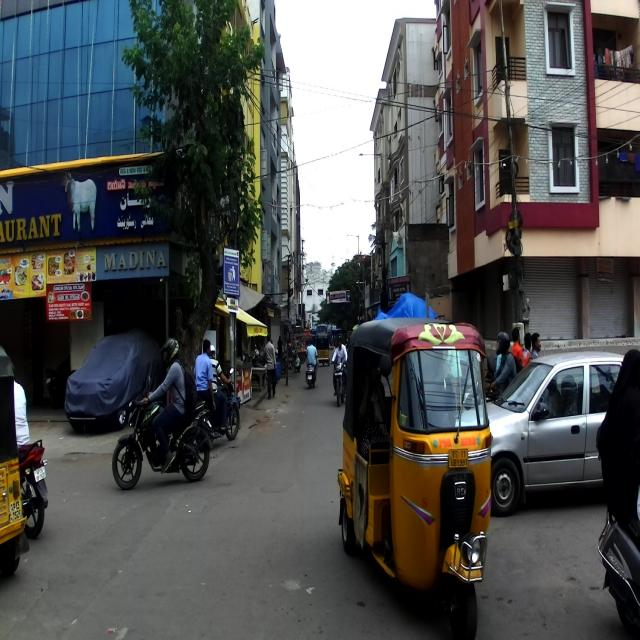Car: (64, 326, 160, 432)
Car_Maruti-Suzuki: (484, 351, 628, 518)
autorickshaw: (336, 317, 496, 639)
motorcycle_Hero: (17, 438, 48, 539)
motorcycle_Yamaha: (112, 372, 212, 489)
scooter: (596, 494, 640, 638)
